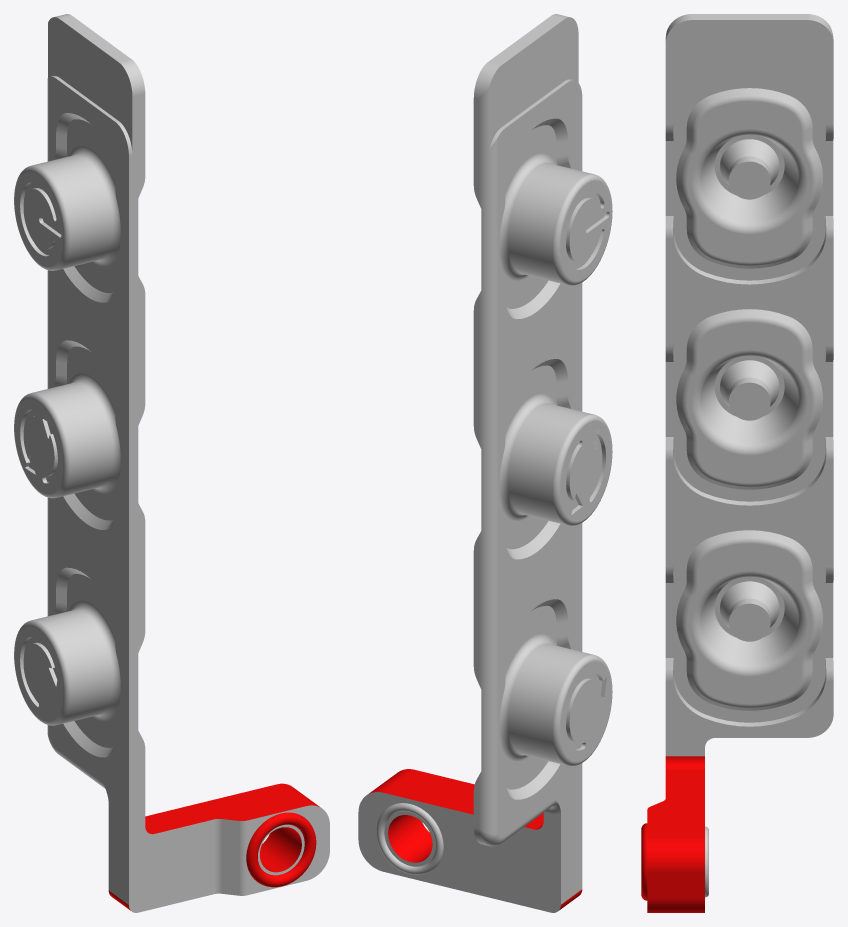
File: FOOT_CONCORD_BUTTON_RUBBER.gltf
The picture shows the model from 3 angles, left to right: view 1: azimuth 30°, elevation 25°; view 2: azimuth 150°, elevation 25°; view 3: azimuth 270°, elevation 25°; orthographic projection. The views are drawn at different scales.
Parts seen in each view (by area): view 1: mesh15163, mesh15066, mesh15022, mesh15223, mesh15225, mesh15221, mesh15070, mesh15238, mesh15250, mesh15227, mesh15078, mesh15073 (+17 smaller); view 2: mesh15163, mesh15026, mesh15077, mesh15022, mesh15221, mesh15223, mesh15225, mesh15238, mesh15250, mesh15227, mesh15070, mesh15182 (+21 smaller); view 3: mesh15007, mesh15123, mesh15083, mesh14987, mesh15057, mesh15017, mesh15156, mesh15116, mesh14954, mesh15040, mesh15118, mesh14952 (+29 smaller).
Part boxes in pixels (x1,y1,x2,y2): mesh15163: [49, 76, 128, 904]; mesh15066: [129, 94, 213, 912]; mesh15022: [48, 17, 132, 149]; mesh15223: [32, 610, 112, 724]; mesh15225: [32, 155, 112, 269]; mesh15221: [32, 382, 112, 497]; mesh15070: [145, 784, 305, 833]; mesh15238: [14, 626, 63, 721]; mesh15250: [14, 399, 63, 493]; mesh15227: [14, 172, 63, 266]; mesh15078: [246, 812, 316, 887]; mesh15073: [247, 805, 329, 895]; mesh15163: [498, 80, 582, 904]; mesh15026: [478, 87, 498, 834]; mesh15077: [358, 792, 560, 912]; mesh15022: [489, 17, 578, 147]; mesh15221: [508, 403, 593, 524]; mesh15223: [508, 644, 593, 765]; mesh15225: [508, 163, 593, 284]; mesh15238: [560, 661, 611, 761]; mesh15250: [560, 421, 611, 521]; mesh15227: [560, 181, 611, 280]; mesh15070: [383, 769, 543, 829]; mesh15182: [499, 633, 556, 761]; mesh15007: [665, 20, 833, 124]; mesh15123: [665, 300, 833, 501]; mesh15083: [665, 521, 833, 722]; mesh14987: [665, 79, 833, 280]; mesh15057: [665, 460, 833, 566]; mesh15017: [665, 239, 833, 345]; mesh15156: [687, 322, 811, 482]; mesh15116: [687, 543, 811, 703]; mesh14954: [687, 101, 811, 261]; mesh15040: [665, 681, 833, 756]; mesh15118: [701, 578, 798, 665]; mesh14952: [701, 136, 798, 223].
Bounding box in the file's own units: 0.0102 × 0.0344 × 0.00733.
